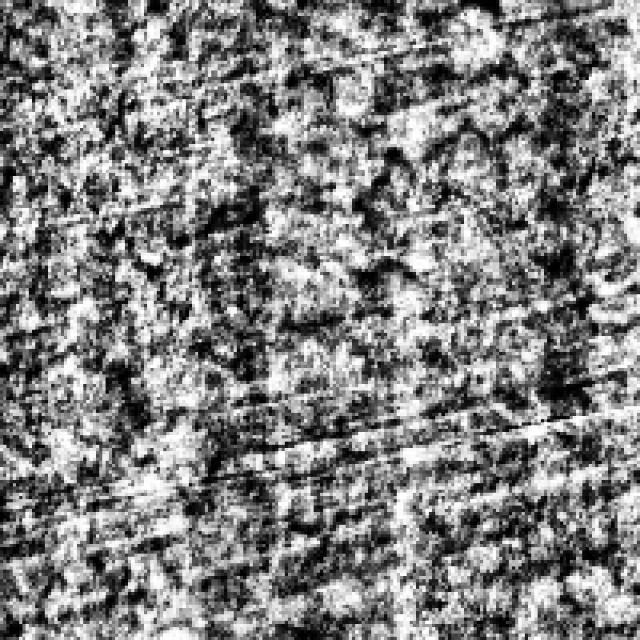Pitted_Surface: (31, 45, 566, 269)
